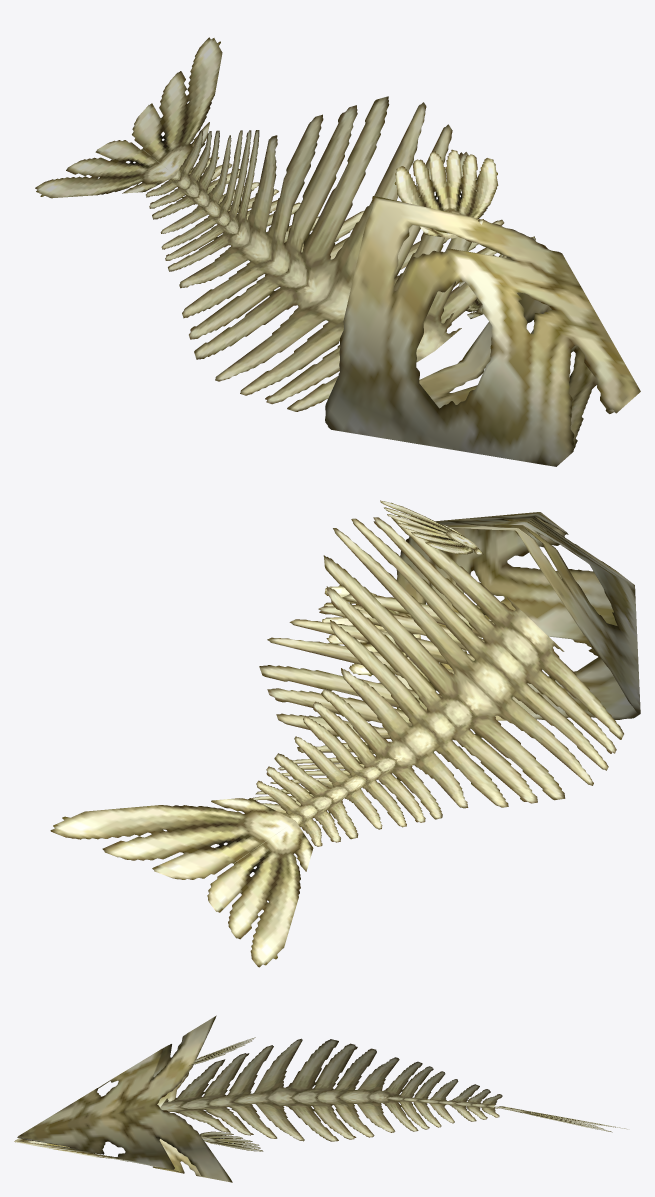
File: fishskel01.obj
3 renders of one model, top to bottom at view 1: azimuth 30°, elevation 25°; view 2: azimuth 150°, elevation 25°; view 3: azimuth 270°, elevation 25°, orthographic. The views are drawn at different scales.
Parts seen in each view (by area): view 1: fishskel01; view 2: fishskel01; view 3: fishskel01.
Boxes of the visible parts, box(x1,y1,x2,y2) form: fishskel01: box(35, 37, 640, 466); fishskel01: box(50, 500, 640, 967); fishskel01: box(14, 1015, 627, 1182).
Size of the model in its own units: 0.2205 by 0.1617 by 0.5721.
Materials: 1 (1 with a texture image).
